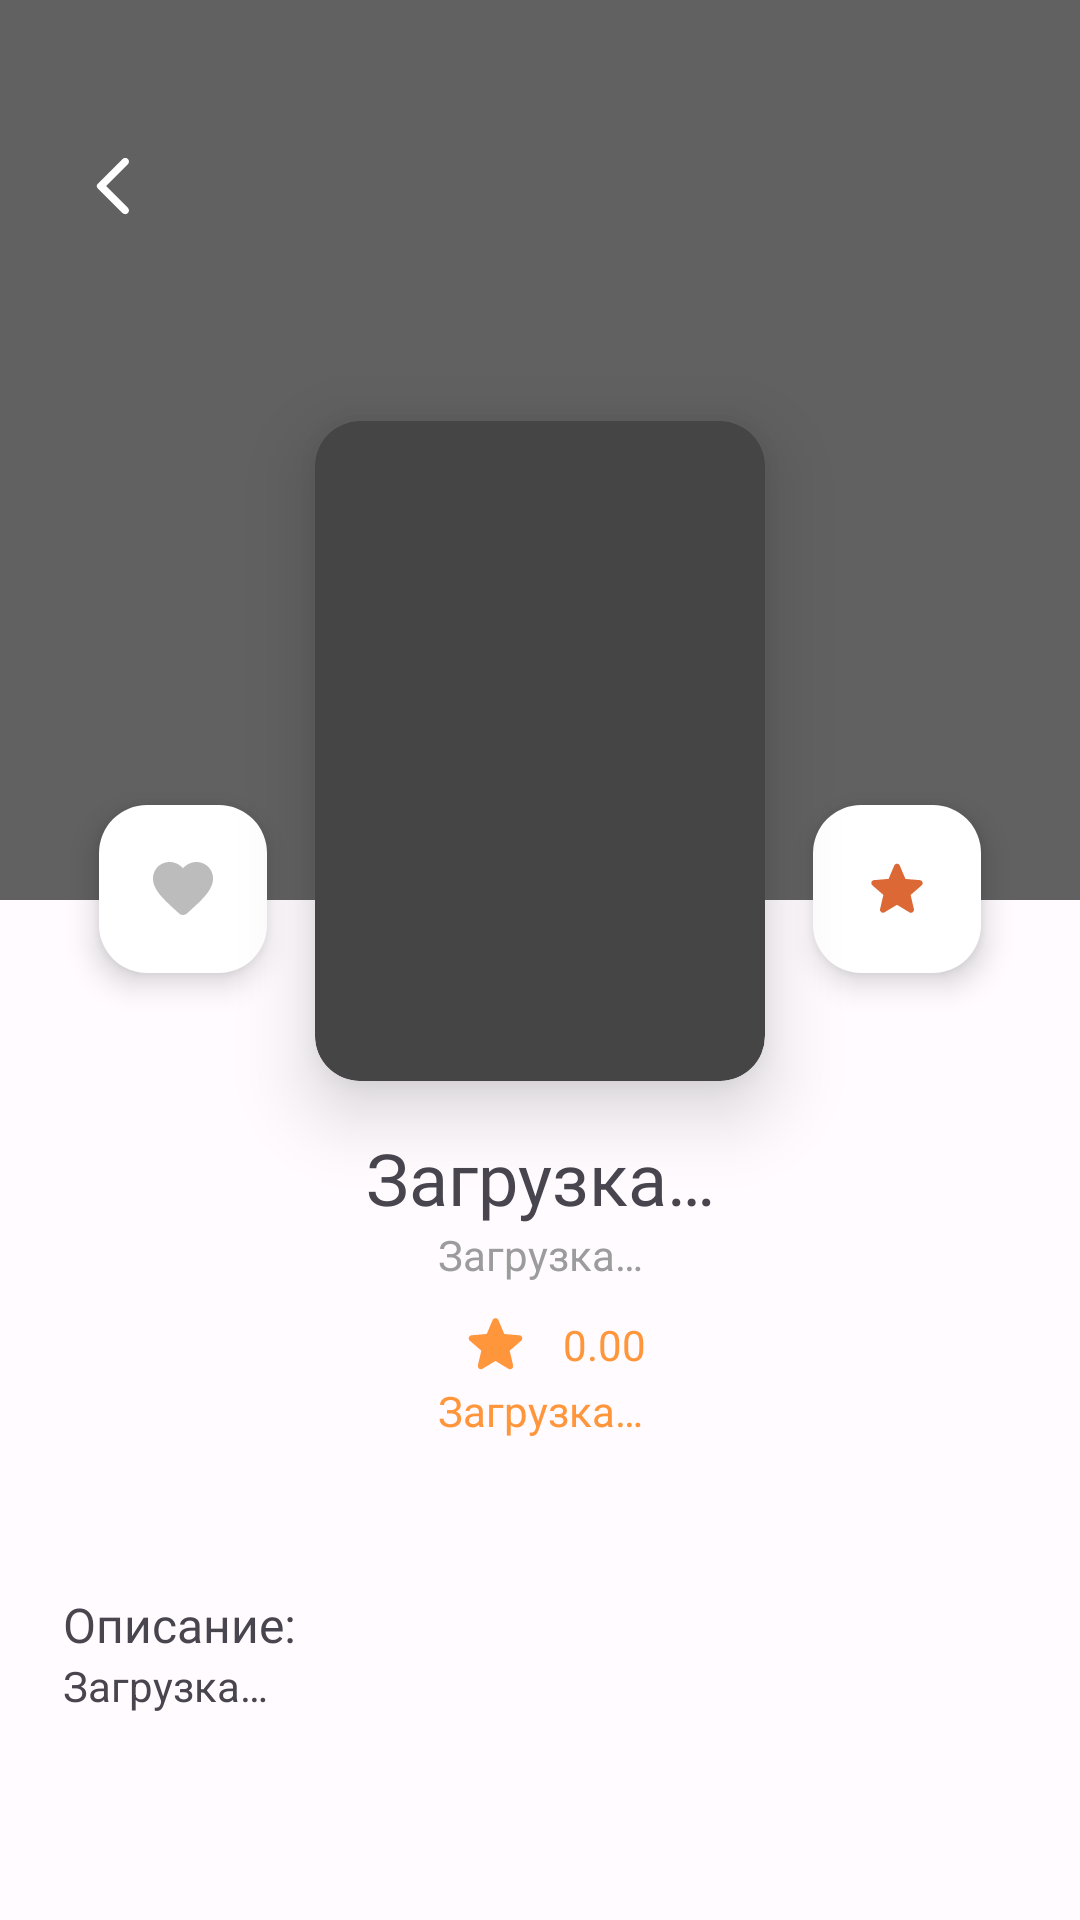

Icon click points for this 1080px x 1920px phone screenshot, format (x,y):
back: (112,186)
favorite: (183,889)
rate: (897,889)
